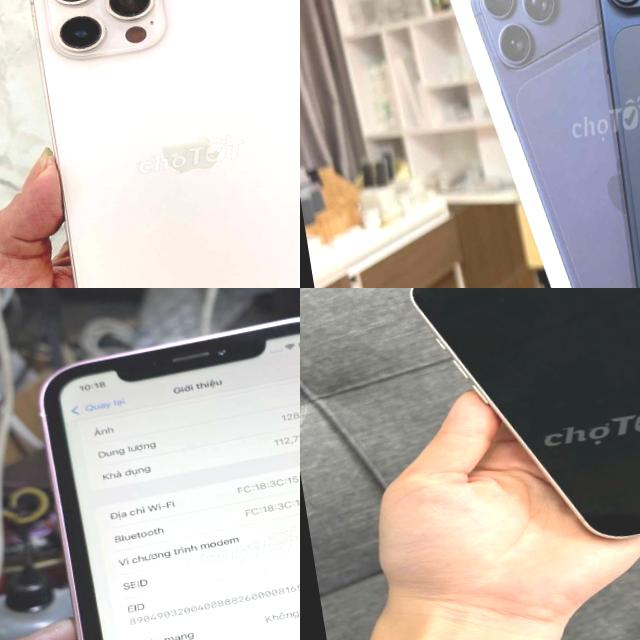gen_12_13: (19, 0, 300, 288)
gen_17: (385, 288, 640, 567)
gen_x_xs: (41, 318, 300, 640)
